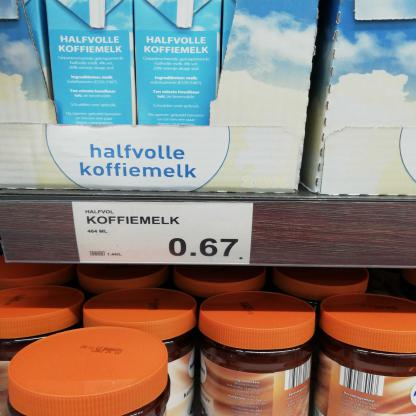prtg: (72, 201, 255, 266)
